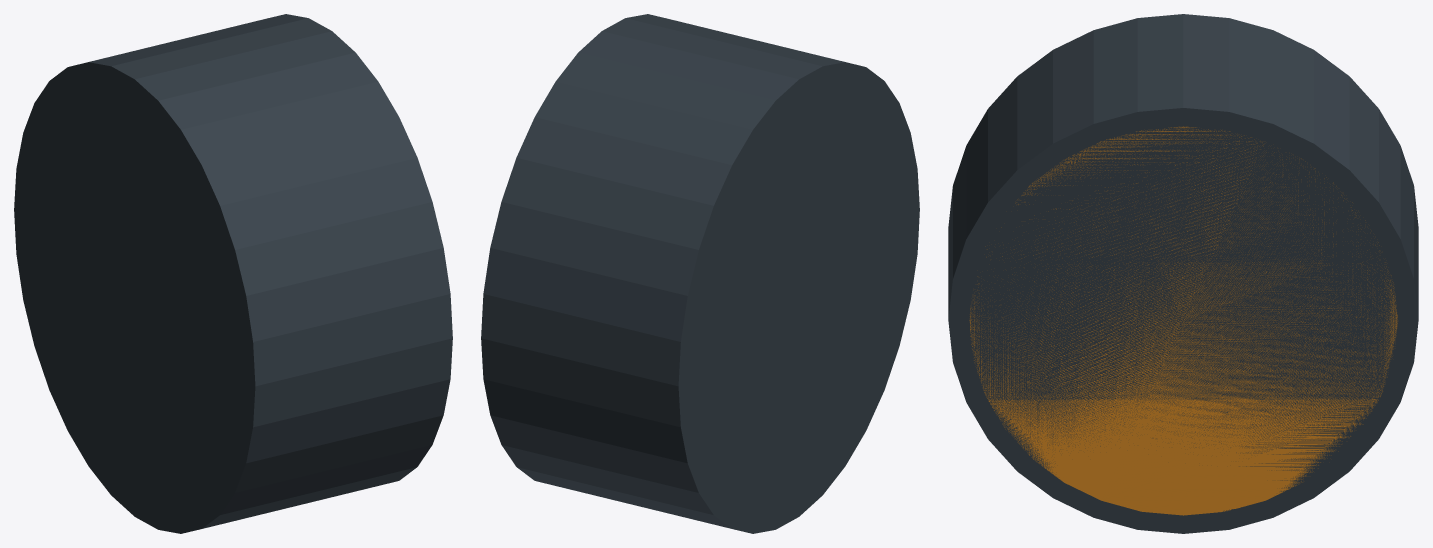
File: mirror.glb
The picture shows the model from 3 angles, left to right: view 1: azimuth 30°, elevation 25°; view 2: azimuth 150°, elevation 25°; view 3: azimuth 270°, elevation 25°; orthographic projection. The views are drawn at different scales.
Parts seen in each view (by area): view 1: mirror; view 2: mirror; view 3: mirror.
Boxes of the visible parts, bbox=[...] form: mirror: bbox=[14, 14, 452, 533]; mirror: bbox=[481, 14, 919, 533]; mirror: bbox=[948, 14, 1418, 533].
Size of the model in its own units: 6 by 12.7 by 12.7.
